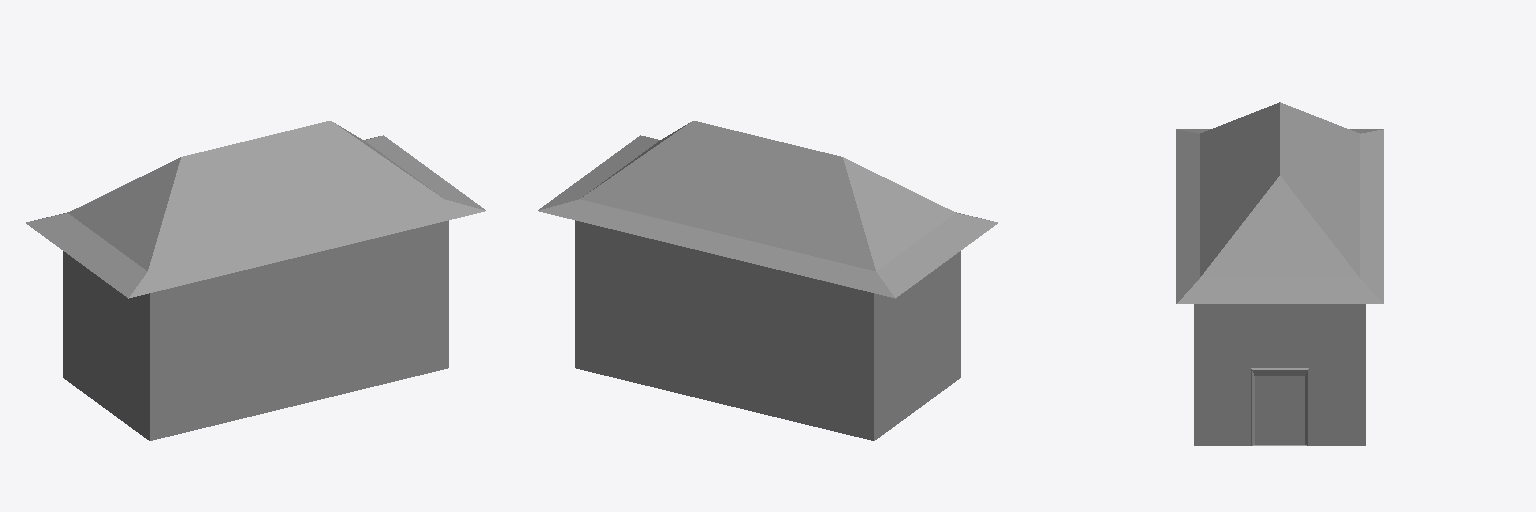
The model's file is House.obj.
The picture shows the model from 3 angles: view 1: azimuth 30°, elevation 25°; view 2: azimuth 150°, elevation 25°; view 3: azimuth 270°, elevation 25°; orthographic projection.
Parts seen in each view (by area): view 1: Cube_Cube.001; view 2: Cube_Cube.001; view 3: Cube_Cube.001.
Part boxes in pixels (x1,y1,x2,y2): Cube_Cube.001: (26, 121, 485, 440); Cube_Cube.001: (538, 121, 997, 440); Cube_Cube.001: (1176, 102, 1383, 445).
Size of the model in its own units: 4.8 by 3 by 2.4.